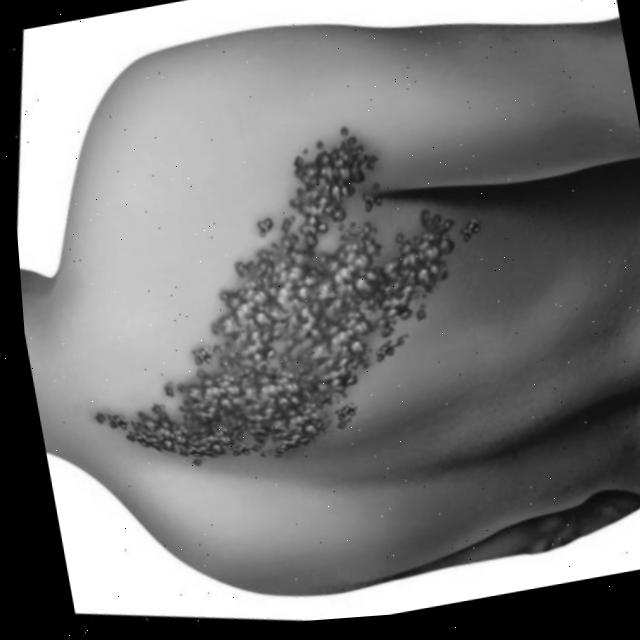Shingles: (38, 119, 479, 492)
